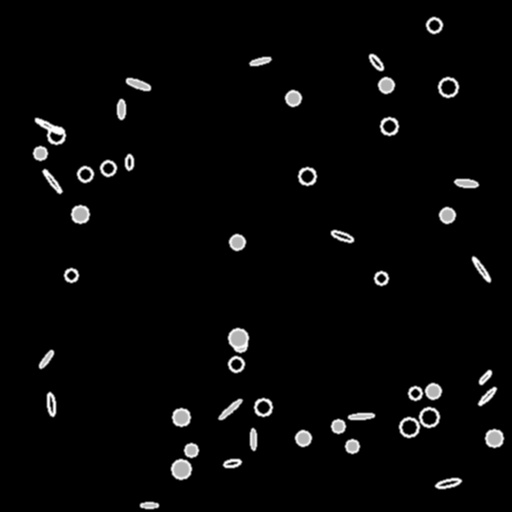pseudomonas: (41, 168, 63, 194), (218, 398, 242, 420), (471, 256, 491, 282), (34, 117, 62, 135), (125, 77, 151, 91), (367, 52, 385, 72), (478, 386, 496, 406), (330, 229, 354, 243), (38, 349, 54, 369), (435, 477, 461, 489), (454, 178, 478, 188), (478, 369, 492, 385), (46, 393, 56, 415), (249, 56, 271, 66), (223, 458, 241, 468), (348, 413, 374, 419), (117, 100, 124, 119), (250, 429, 256, 449), (141, 502, 157, 508), (126, 154, 132, 170)
synechocystis: (439, 78, 457, 96), (400, 418, 418, 436), (172, 460, 190, 478), (420, 408, 438, 426), (229, 329, 247, 347), (173, 409, 189, 425), (299, 168, 315, 184), (486, 430, 502, 446), (255, 399, 271, 415), (48, 127, 64, 143), (72, 206, 88, 222), (381, 118, 397, 134), (230, 235, 244, 249), (440, 208, 454, 222), (296, 431, 310, 445), (379, 78, 393, 92), (286, 91, 300, 105), (101, 161, 115, 175), (426, 384, 440, 398), (78, 167, 92, 181), (427, 18, 441, 32), (229, 357, 243, 371), (65, 269, 77, 281), (409, 387, 421, 399), (34, 147, 46, 159), (332, 420, 344, 432), (234, 339, 246, 351), (375, 272, 387, 284), (185, 444, 197, 456), (346, 440, 358, 452)
